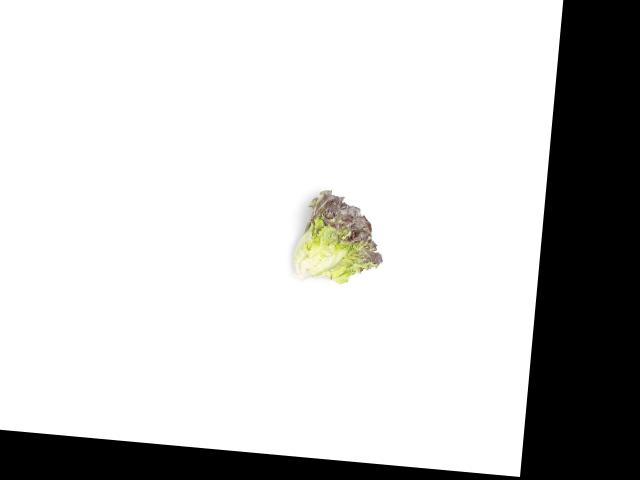lettuce: (290, 181, 387, 290)
